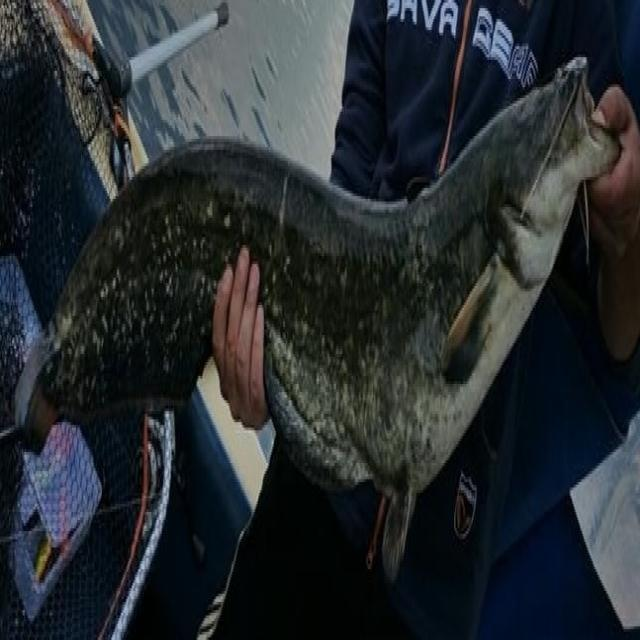Catfish: (19, 22, 620, 531), (28, 101, 616, 602), (606, 58, 612, 96)
